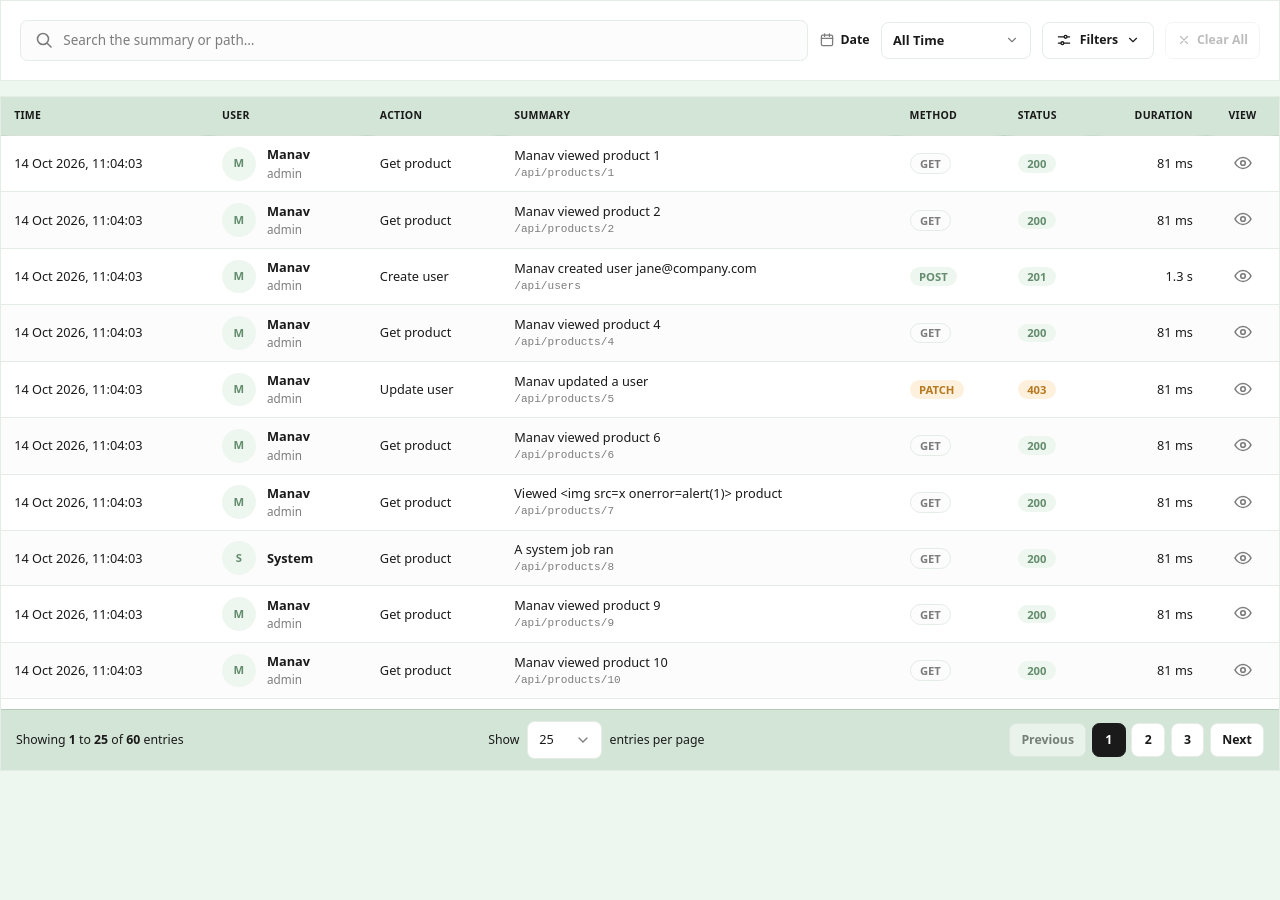
Test: ActivityPage › list › asks for page 1 only when it opens, and for page 2 when its button is clicked
expect the text "Manav viewed product 1" is shown: met, box [514, 146, 660, 164]
Click the button named "Page 2".
click(1148, 740)  # box [1131, 723, 1165, 757]
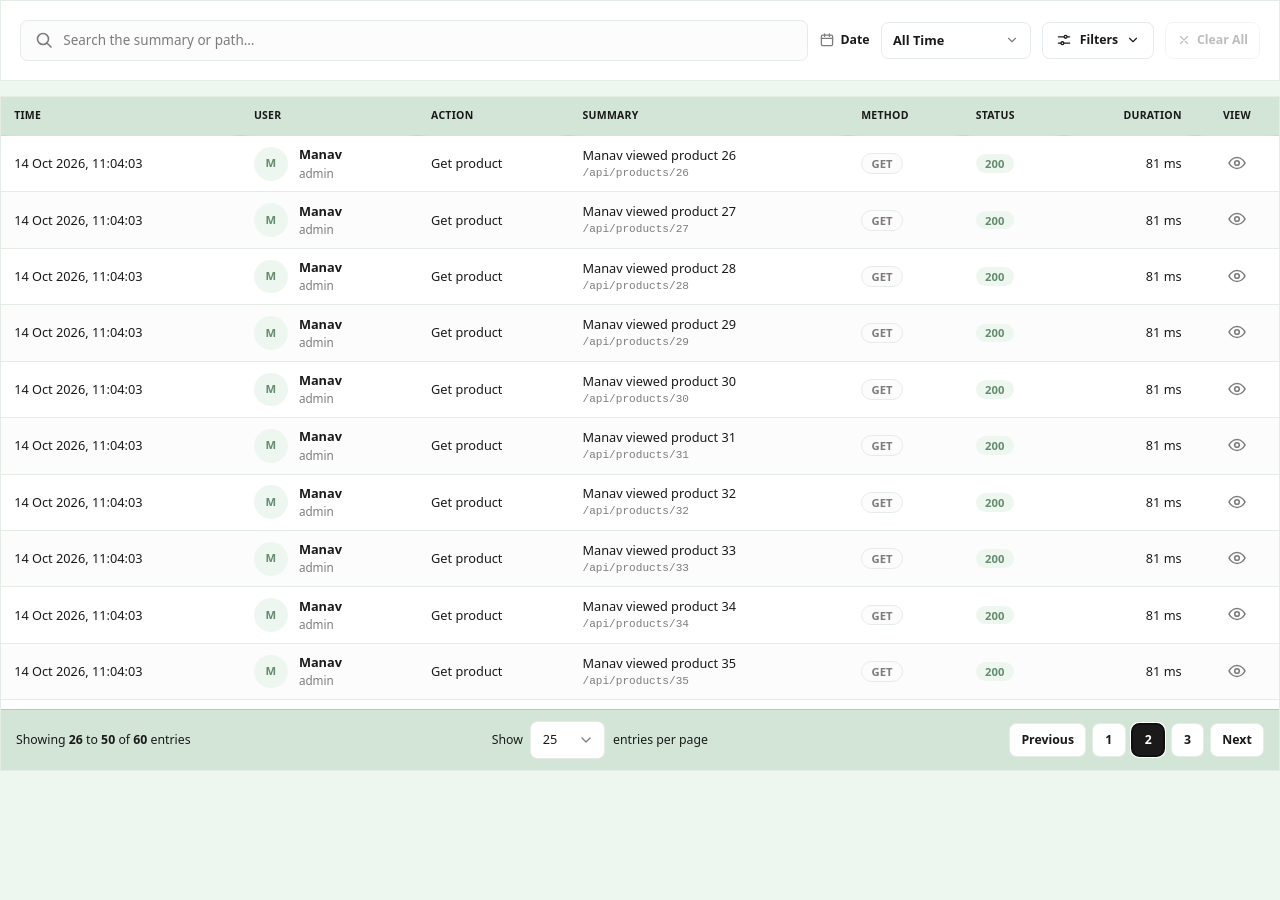
expect the text "Manav viewed product 26" is shown: met, box [582, 146, 736, 164]
